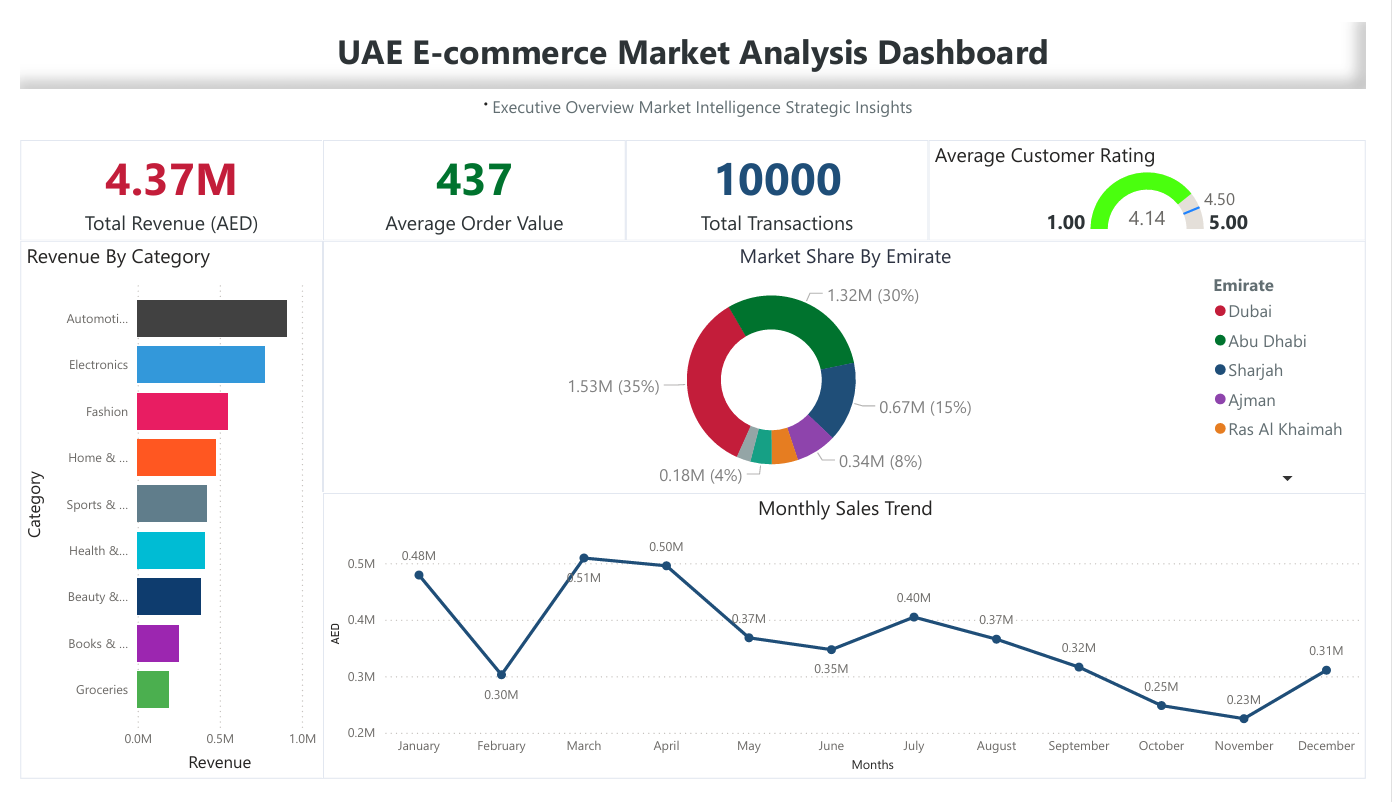

The page's visual inventory and layout, read from the dashboard file:
{"tool":"powerbi","page":{"name":"UAE E-Commerce Executive Dashboard","canvas":[1280,720],"ordinal":0},"visuals":[{"type":"card","fields":{"Values":["Sum(uae_ecommerce_transactions.order_value_aed)"]},"box":[0,112,288,96],"z":0},{"type":"card","fields":{"Values":["uae_ecommerce_transactions.Total Transactions"]},"box":[576,112,288,96],"z":1000},{"type":"card","fields":{"Values":["uae_ecommerce_transactions.Average Order Value"]},"box":[288,112,288,96],"z":2000},{"type":"gauge","fields":{"Y":["Avg(uae_ecommerce_transactions.customer_rating)"]},"box":[864,112,416,96],"z":3000},{"type":"donutChart","title":"Market Share By Emirate","fields":{"Category":["uae_ecommerce_transactions.emirate"],"Y":["Sum(uae_ecommerce_transactions.order_value_aed)"]},"box":[288,208,992,240],"z":4000},{"type":"barChart","title":"Revenue By Category ","fields":{"Category":["uae_ecommerce_transactions.category"],"Y":["Sum(uae_ecommerce_transactions.order_value_aed)"]},"box":[0,208,288,512],"z":5000},{"type":"lineChart","title":"Monthly Sales Trend","fields":{"Category":["uae_ecommerce_transactions.date.Variation.Date Hierarchy.Month"],"Y":["Sum(uae_ecommerce_transactions.order_value_aed)"]},"box":[288,448,992,272],"z":6000},{"type":"textbox","box":[0,0,1280,64],"z":7000},{"type":"textbox","box":[0,64,1280,48],"z":9000}]}

Visuals, with their boxes in screenshot pixels (x1, y1, x2, y2), scaled from the page's 1280x720 canvas onto the 1392x802 screenshot:
card - Sum(uae_ecommerce_transactions.order_value_aed): l=0, t=125, r=313, b=232
card - uae_ecommerce_transactions.Total Transactions: l=626, t=125, r=940, b=232
card - uae_ecommerce_transactions.Average Order Value: l=313, t=125, r=626, b=232
gauge - Avg(uae_ecommerce_transactions.customer_rating): l=940, t=125, r=1391, b=232
"Market Share By Emirate" donutChart: l=313, t=232, r=1391, b=499
"Revenue By Category " barChart: l=0, t=232, r=313, b=801
"Monthly Sales Trend" lineChart: l=313, t=499, r=1391, b=801
textbox: l=0, t=0, r=1391, b=71
textbox: l=0, t=71, r=1391, b=125
